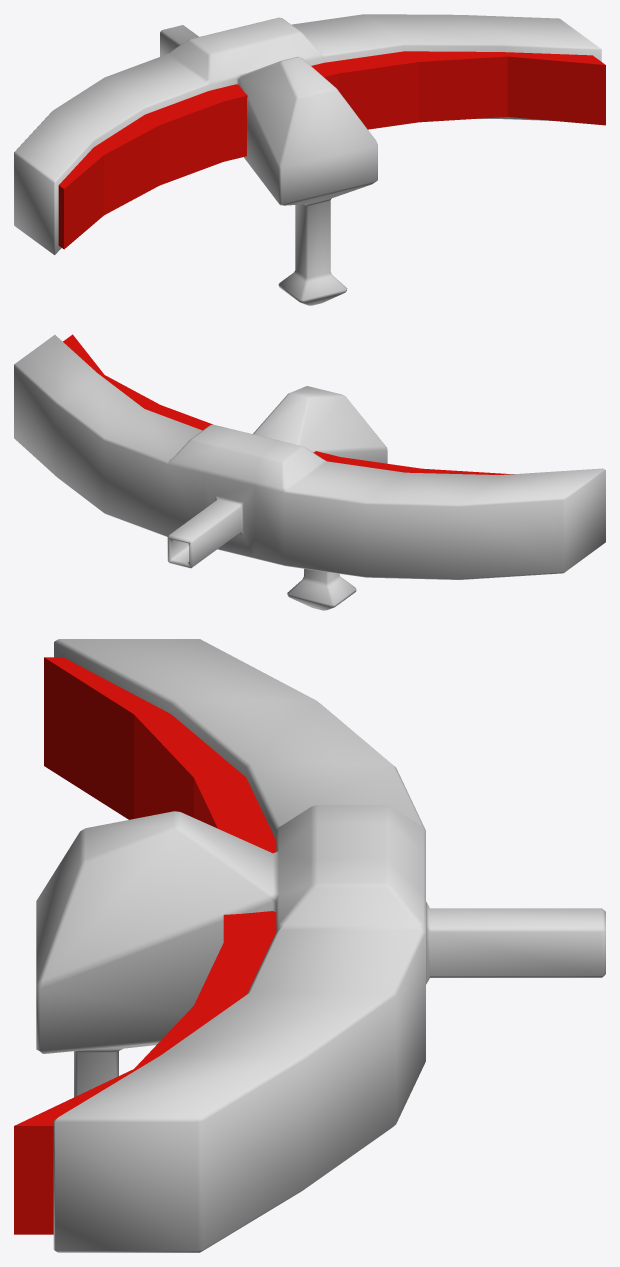
File: DemonGun.glb
The picture shows the model from 3 angles, top to bottom: view 1: azimuth 30°, elevation 25°; view 2: azimuth 150°, elevation 25°; view 3: azimuth 270°, elevation 25°; orthographic projection. The views are drawn at different scales.
Visible parts, largest first — view 1: MainGun, Glow; view 2: MainGun, Glow; view 3: MainGun, Glow.
Boxes of the visible parts, box(x1,y1,x2,y2) form: MainGun: box(14, 14, 601, 305); Glow: box(58, 51, 605, 249); MainGun: box(14, 335, 605, 610); Glow: box(63, 334, 513, 474); MainGun: box(36, 639, 605, 1252); Glow: box(14, 657, 276, 1234).
Size of the model in its own units: 7.6 by 3.01 by 3.95.
